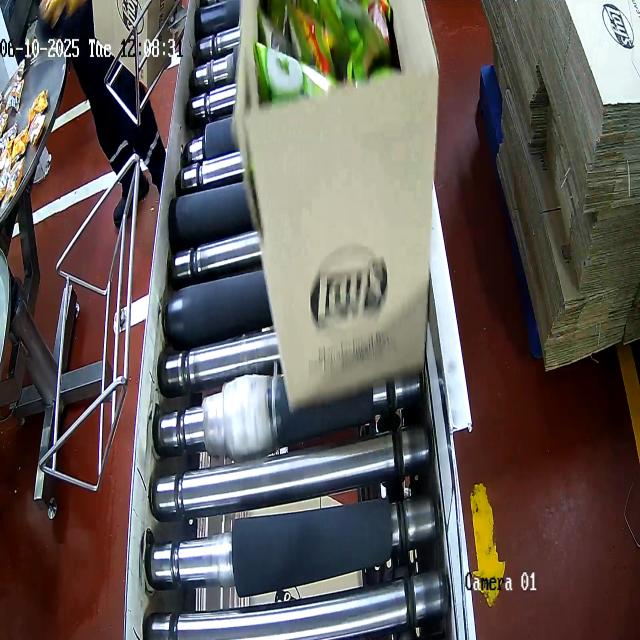YOGURT_HERB: (262, 0, 393, 97)
